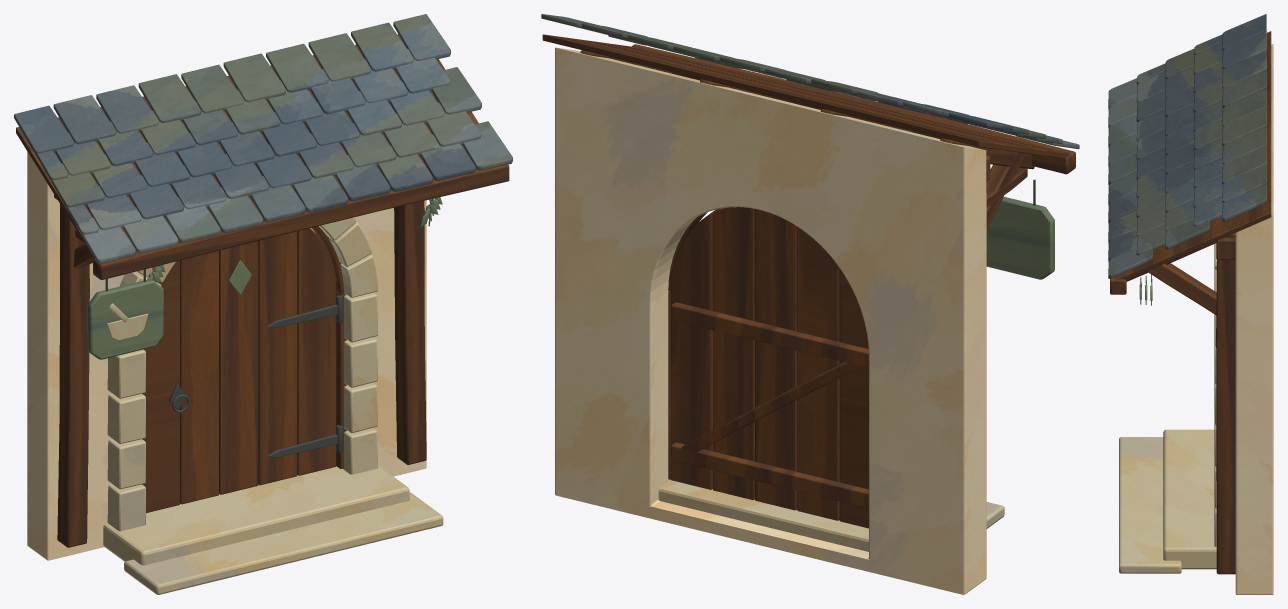
The model's file is CM_EntranceBay01_Painted_v01.fbx.
3 views of the same model, side by side, from view 1: azimuth 30°, elevation 25°; view 2: azimuth 150°, elevation 25°; view 3: azimuth 270°, elevation 25° (orthographic). The views are drawn at different scales.
Visible parts, largest first — view 1: 03_Door_Leaf_Hinged, 01_Shell_Plaster_With_Arched_Opening, 05_Threshold_Stone, 05_Lower_Step_Stone, 04_Frame_Post_1, 04_Frame_Post_-1, 06_Canopy_Fascia, 07_Sign_Sage_Board, 06_Slate_Course04_Tile06, 06_Slate_Course04_Tile08, 06_Slate_Course04_Tile01, 06_Slate_Course04_Tile04 (+57 smaller); view 2: 01_Shell_Plaster_With_Arched_Opening, 03_Door_Leaf_Hinged, 06_Canopy_Solid_Boarding, 05_Threshold_Stone, 07_Sign_Sage_Board, 06_Canopy_Fascia, 04_Canopy_Knee_1, 06_Canopy_Rafter.003; view 3: 01_Shell_Plaster_With_Arched_Opening, 05_Threshold_Stone, 05_Lower_Step_Stone, 04_Frame_Post_-1, 06_Canopy_Solid_Boarding, 04_Canopy_Knee_-1, 06_Slate_Course04_Tile06, 06_Slate_Course04_Tile04, 06_Slate_Course04_Tile08, 06_Slate_Course04_Tile01, 06_Slate_Course04_Tile00, 06_Slate_Course04_Tile03 (+46 smaller).
Boxes of the visible parts, x1,y1,x2,y2 form: 03_Door_Leaf_Hinged: [143, 228, 342, 512]; 01_Shell_Plaster_With_Arched_Opening: [27, 152, 426, 560]; 05_Threshold_Stone: [103, 465, 409, 565]; 05_Lower_Step_Stone: [124, 492, 443, 594]; 04_Frame_Post_1: [57, 204, 89, 547]; 04_Frame_Post_-1: [394, 201, 426, 464]; 06_Canopy_Fascia: [93, 164, 509, 279]; 07_Sign_Sage_Board: [87, 279, 163, 359]; 06_Slate_Course04_Tile06: [138, 74, 201, 123]; 06_Slate_Course04_Tile08: [53, 95, 116, 144]; 06_Slate_Course04_Tile01: [351, 22, 413, 71]; 06_Slate_Course04_Tile04: [223, 53, 285, 102]; 01_Shell_Plaster_With_Arched_Opening: [555, 47, 986, 594]; 03_Door_Leaf_Hinged: [670, 207, 868, 528]; 06_Canopy_Solid_Boarding: [542, 34, 1069, 158]; 05_Threshold_Stone: [658, 479, 868, 551]; 07_Sign_Sage_Board: [986, 196, 1054, 279]; 06_Canopy_Fascia: [632, 44, 1075, 174]; 04_Canopy_Knee_1: [986, 152, 1025, 230]; 06_Canopy_Rafter.003: [940, 138, 1034, 169]; 01_Shell_Plaster_With_Arched_Opening: [1235, 44, 1273, 594]; 05_Threshold_Stone: [1163, 429, 1216, 569]; 05_Lower_Step_Stone: [1119, 437, 1181, 573]; 04_Frame_Post_-1: [1216, 233, 1235, 574]; 06_Canopy_Solid_Boarding: [1117, 31, 1271, 279]; 04_Canopy_Knee_-1: [1147, 263, 1216, 314]; 06_Slate_Course04_Tile06: [1222, 69, 1266, 107]; 06_Slate_Course04_Tile04: [1222, 107, 1266, 145]; 06_Slate_Course04_Tile08: [1222, 31, 1266, 69]; 06_Slate_Course04_Tile01: [1222, 165, 1266, 202]; 06_Slate_Course04_Tile00: [1222, 184, 1266, 221]; 06_Slate_Course04_Tile03: [1222, 127, 1266, 164].
Bounding box in the file's own units: 3.72 × 3.76 × 1.39.
